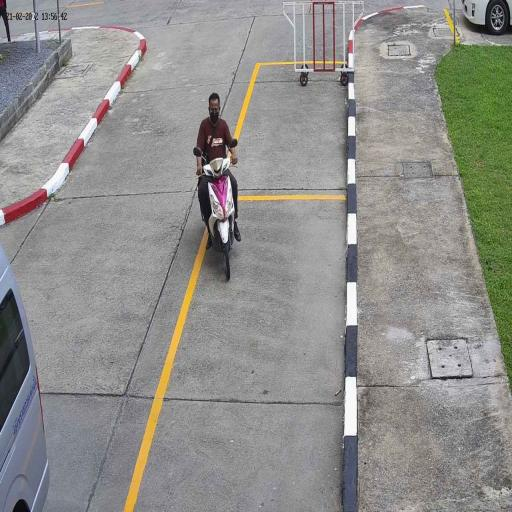car: (0, 237, 52, 512)
motorcycle: (199, 156, 238, 280)
